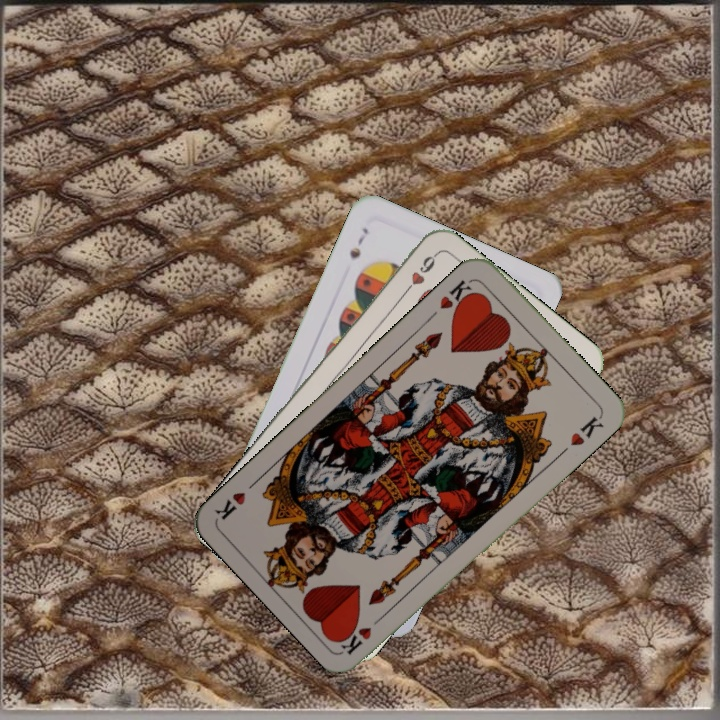H9: (398, 249, 440, 299)
HK: (337, 609, 389, 657), (435, 275, 478, 316)
S7: (345, 223, 371, 262)
